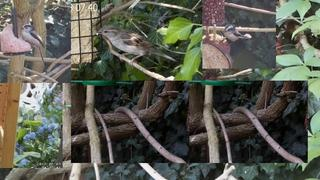long tailed tit: (21, 24, 47, 74), (221, 24, 252, 45)
sparrow: (95, 24, 178, 69)
